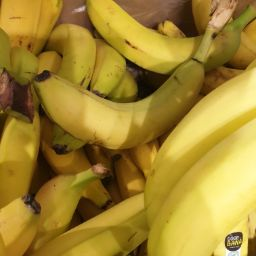Bannana: (40, 51, 202, 256), (79, 1, 256, 143), (139, 61, 256, 256), (84, 2, 256, 113), (2, 2, 94, 200), (1, 176, 165, 256)
